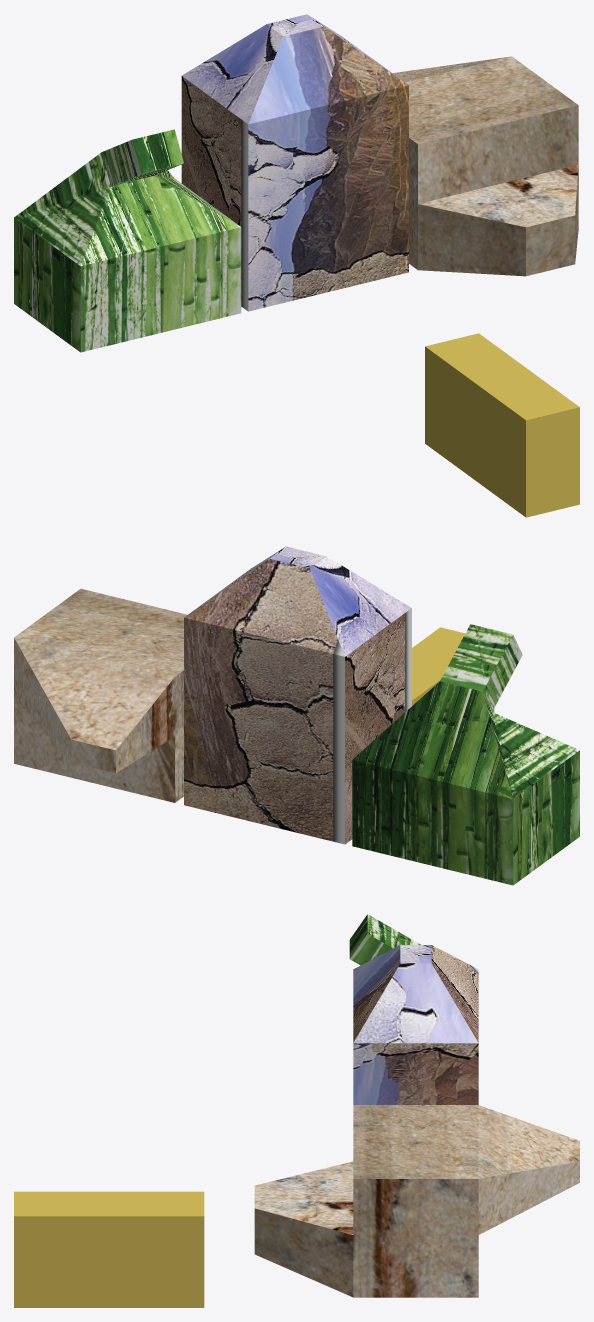
File: submeshes_hae.DAE
3 views of the same model, one above another, from view 1: azimuth 30°, elevation 25°; view 2: azimuth 150°, elevation 25°; view 3: azimuth 270°, elevation 25° (orthographic). The views are drawn at different scales.
Visible parts, largest first — view 1: geoOcean_PIVOT, geoGrass_PIVOT, geoRock_PIVOT, Box01; view 2: geoOcean_PIVOT, geoGrass_PIVOT, geoRock_PIVOT, Box01; view 3: geoRock_PIVOT, Box01, geoOcean_PIVOT, geoGrass_PIVOT.
Part boxes in pixels (<box>): geoOcean_PIVOT: <box>181,14,408,311</box>; geoGrass_PIVOT: <box>14,129,241,352</box>; geoRock_PIVOT: <box>392,56,578,276</box>; Box01: <box>425,333,579,517</box>; geoOcean_PIVOT: <box>184,546,411,844</box>; geoGrass_PIVOT: <box>352,624,579,885</box>; geoRock_PIVOT: <box>14,588,187,802</box>; Box01: <box>412,627,494,712</box>; geoRock_PIVOT: <box>254,1105,579,1297</box>; Box01: <box>14,1191,204,1307</box>; geoOcean_PIVOT: <box>353,945,478,1104</box>; geoGrass_PIVOT: <box>349,914,420,965</box>.
Bounding box in the file's own units: 322 × 337 × 211.
Materials: 4 (3 with a texture image).
